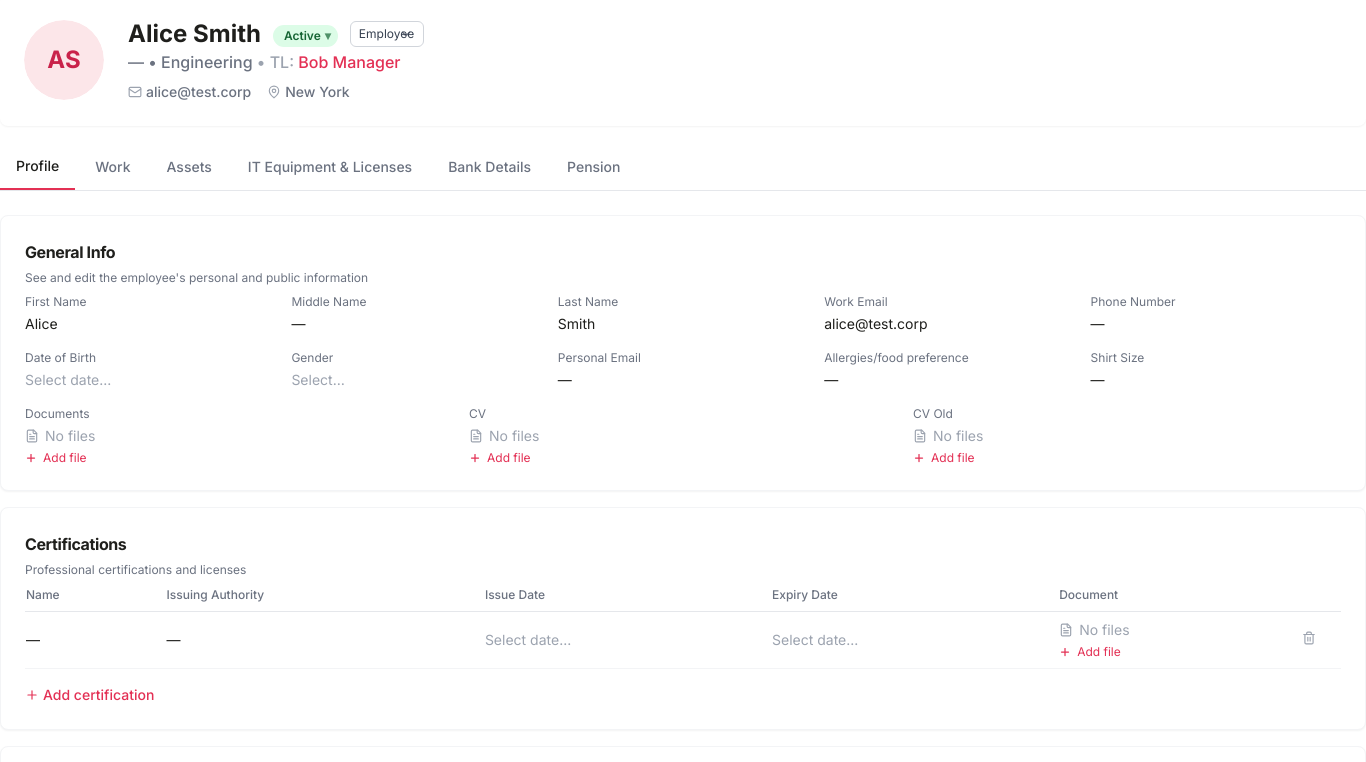
Test: Employee profile page › ILS appears in currency options on profile page
What coordinates should you click on to do the following:
click the tab "Work"
I would click on:
 (113, 170)
Its box is top-left (79, 151), bottom-right (146, 189).
(page scrolled)
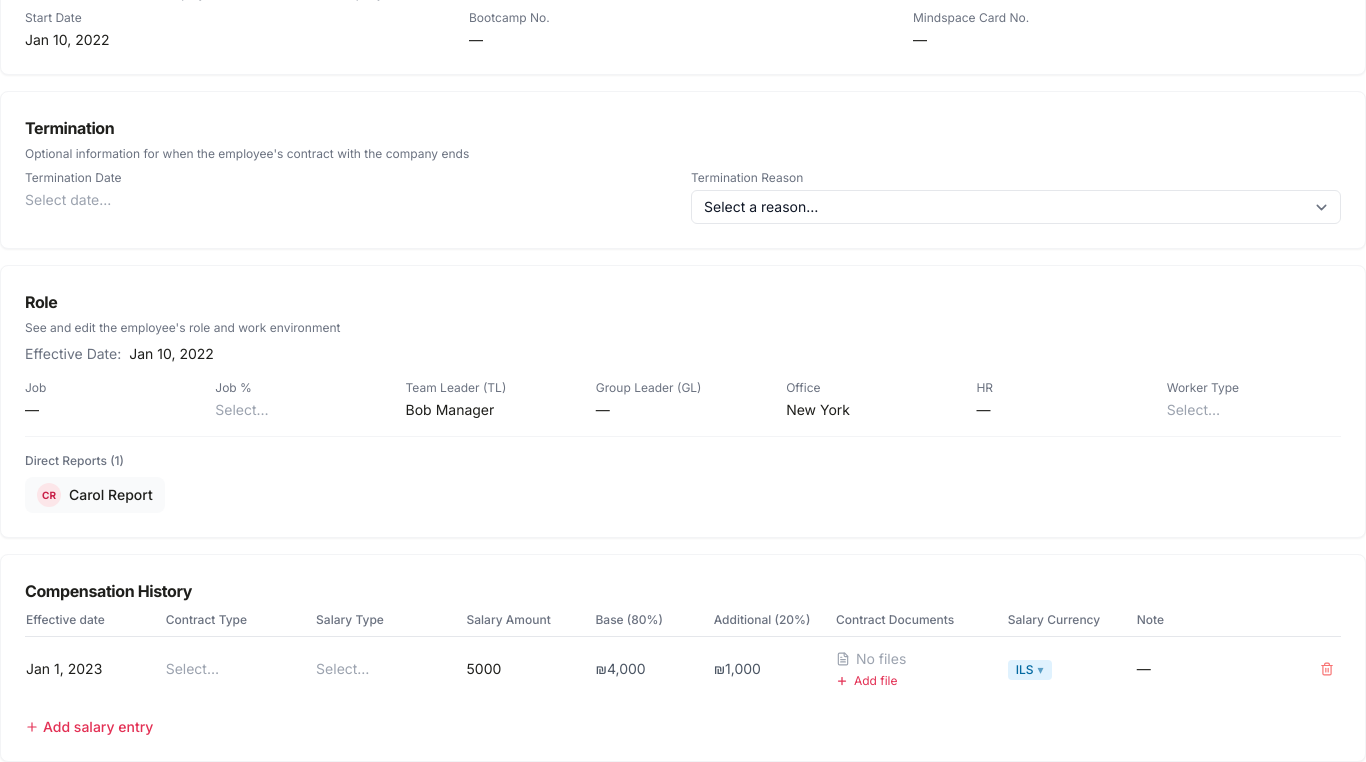
expect the text "ILS" is shown: met, box top-left (1016, 662), bottom-right (1034, 676)
